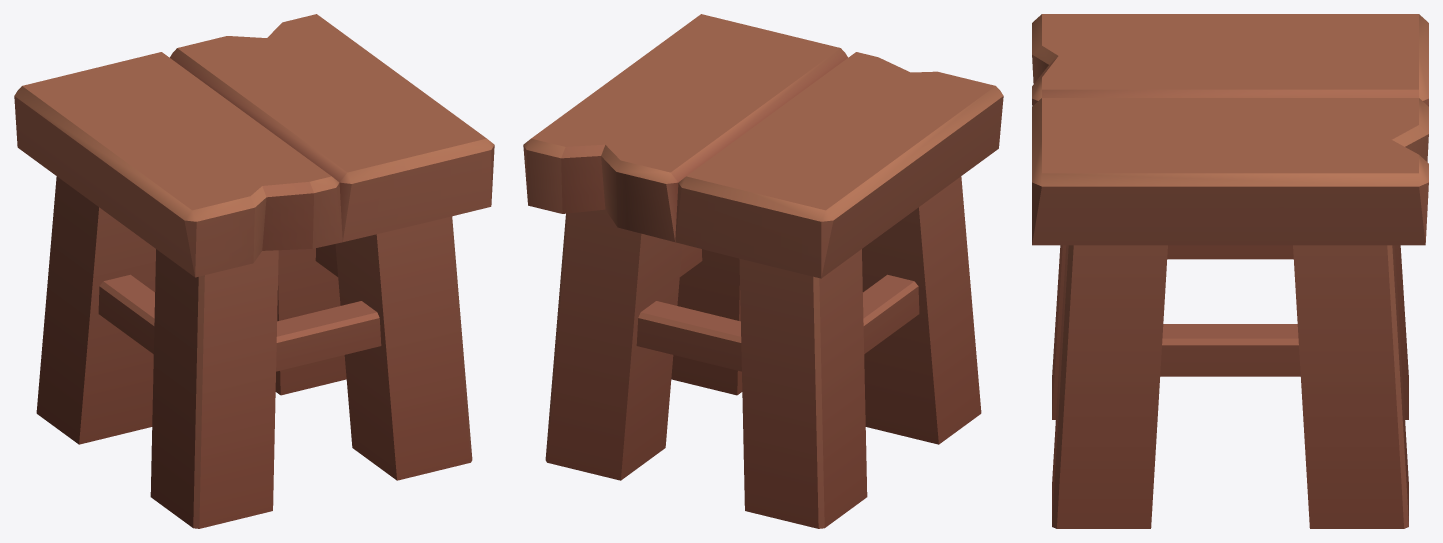
The model's file is prop_table_small.glb.
3 views of the same model, side by side, from view 1: azimuth 30°, elevation 25°; view 2: azimuth 150°, elevation 25°; view 3: azimuth 270°, elevation 25° (orthographic). The views are drawn at different scales.
Parts seen in each view (by area): view 1: table_small; view 2: table_small; view 3: table_small.
Part boxes in pixels (left/top/right/bottom): table_small: left=14, top=14, right=494, bottom=528; table_small: left=523, top=14, right=1003, bottom=528; table_small: left=1032, top=14, right=1428, bottom=528.
Size of the model in its own units: 1 by 1 by 1.
1 material, 1 textured.
